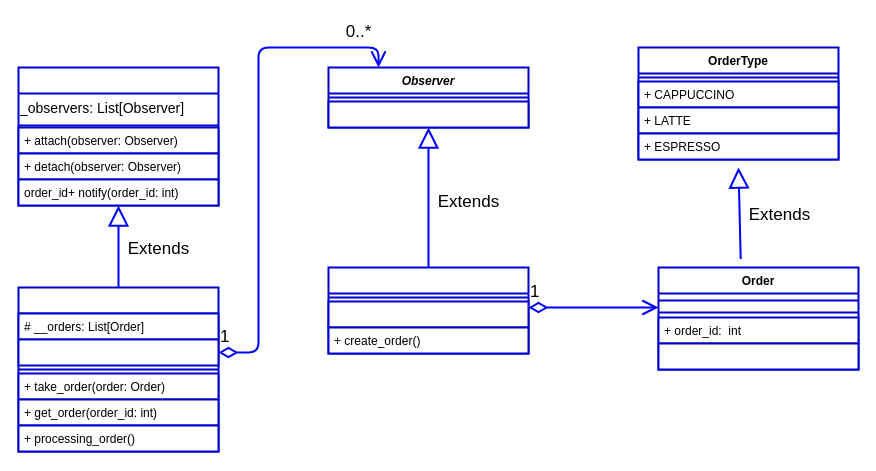
Image size: 876x471. Some labels were removed from this diagram. Here are the shapes that lost their labels. From the top down, the box of each, then its label:
(327, 100, 529, 128): + update(order_id: int)
(17, 66, 219, 206): Subject
(327, 266, 529, 354): Client
(327, 300, 529, 328): + update(state: int)
(17, 338, 219, 366): # __finish_order: List[Order]
(17, 286, 219, 452): Barista
(657, 342, 859, 370): + __str__(str)
